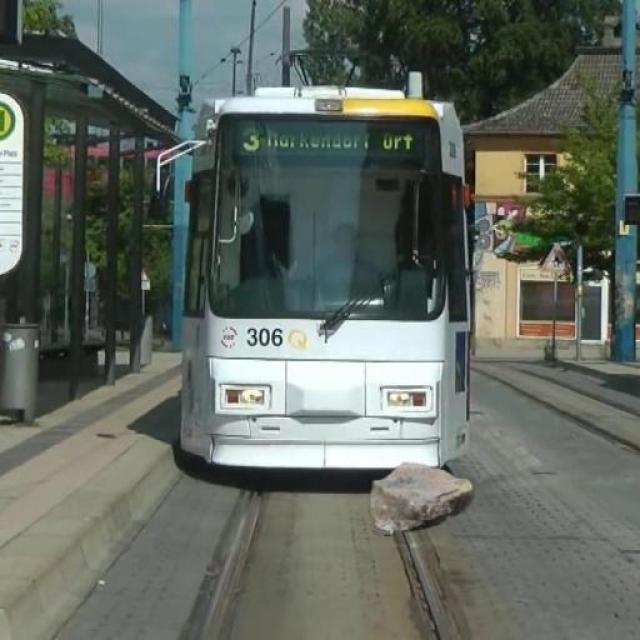Stone: (370, 459, 484, 539)
